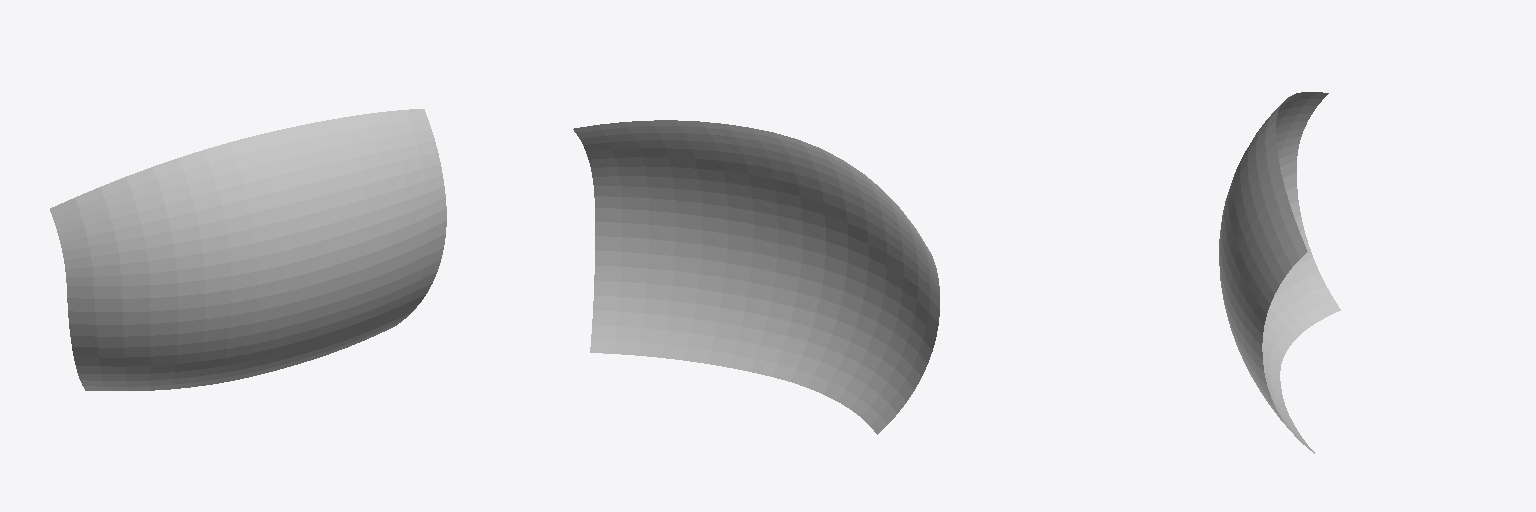
File: endview.obj
The picture shows the model from 3 angles: view 1: azimuth 30°, elevation 25°; view 2: azimuth 150°, elevation 25°; view 3: azimuth 270°, elevation 25°; orthographic projection.
Size of the model in its own units: 38.46 by 24.76 by 11.19.